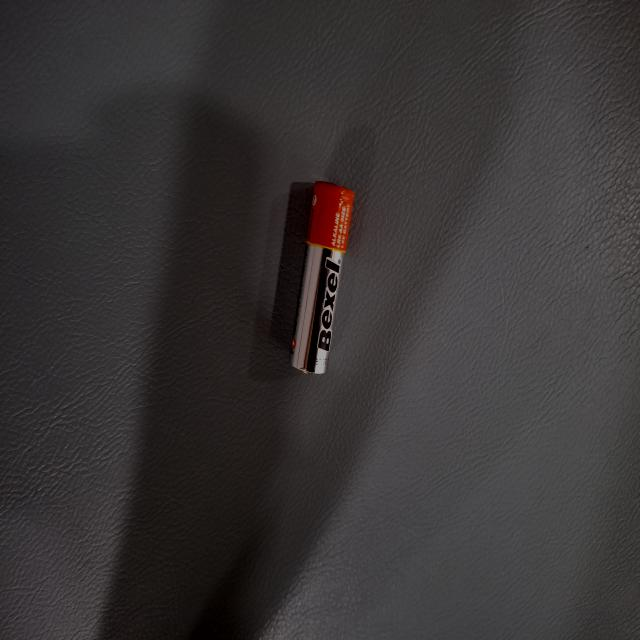AA: (198, 385, 344, 472)
